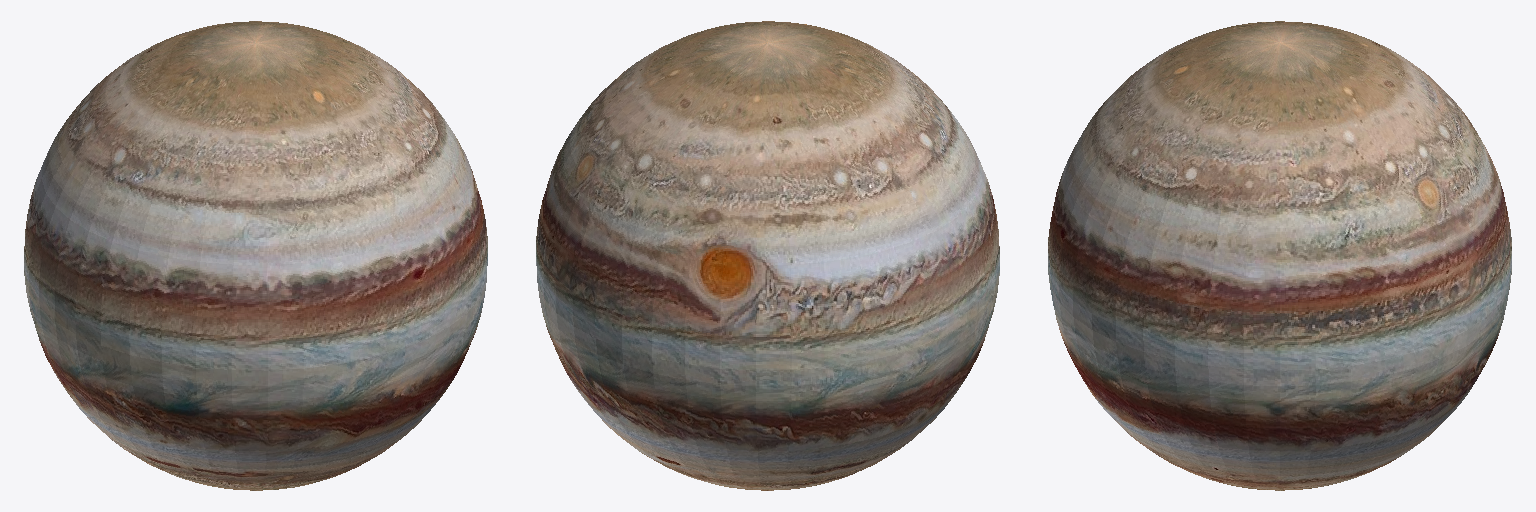
3 views of the same model, side by side, from view 1: azimuth 30°, elevation 25°; view 2: azimuth 150°, elevation 25°; view 3: azimuth 270°, elevation 25° (orthographic).
Visible parts, largest first — view 1: xingqiu_03; view 2: xingqiu_03; view 3: xingqiu_03.
Part boxes in pixels (left/top/right/bottom): xingqiu_03: left=24, top=21, right=487, bottom=490; xingqiu_03: left=536, top=21, right=999, bottom=490; xingqiu_03: left=1048, top=21, right=1511, bottom=490.
Size of the model in its own units: 11.82 by 11.97 by 11.82.
Materials: 1 (1 with a texture image).